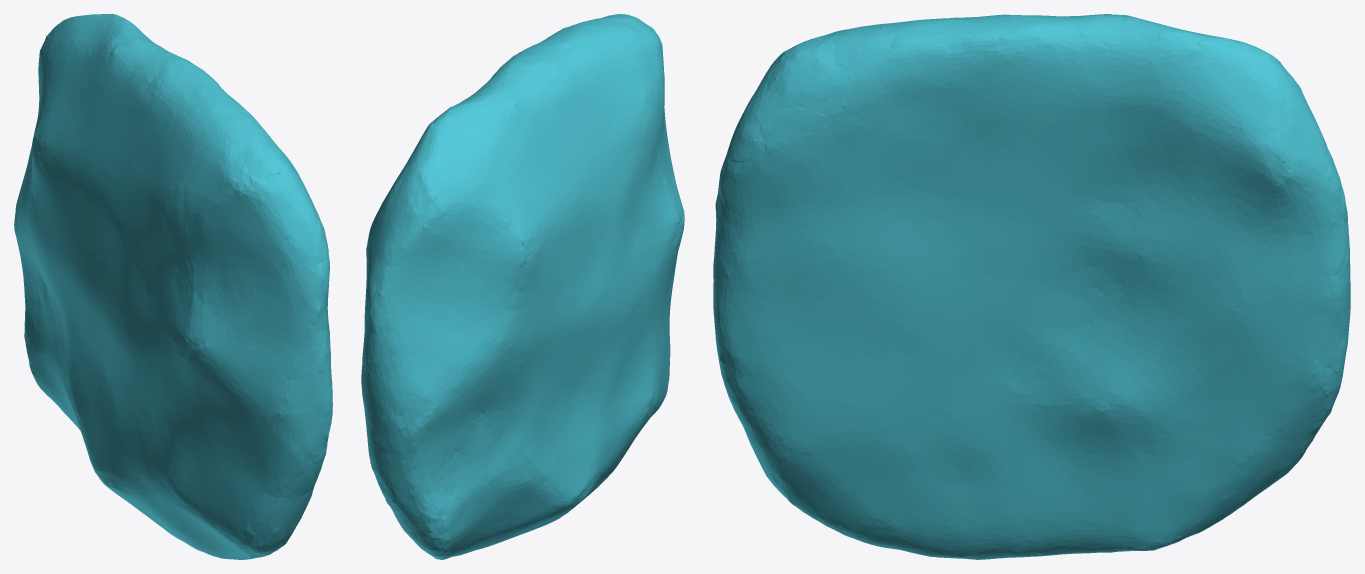
3 views of the same model, side by side, from view 1: azimuth 30°, elevation 25°; view 2: azimuth 150°, elevation 25°; view 3: azimuth 270°, elevation 25° (orthographic). The views are drawn at different scales.
Parts seen in each view (by area): view 1: Renderer Node; view 2: Renderer Node; view 3: Renderer Node.
Part boxes in pixels (bbox=[...]): Renderer Node: bbox=[14, 14, 332, 559]; Renderer Node: bbox=[361, 14, 684, 559]; Renderer Node: bbox=[713, 14, 1350, 559].
Bounding box in the file's own units: 0.1707 × 0.6319 × 0.6792.
1 material, 1 textured.
